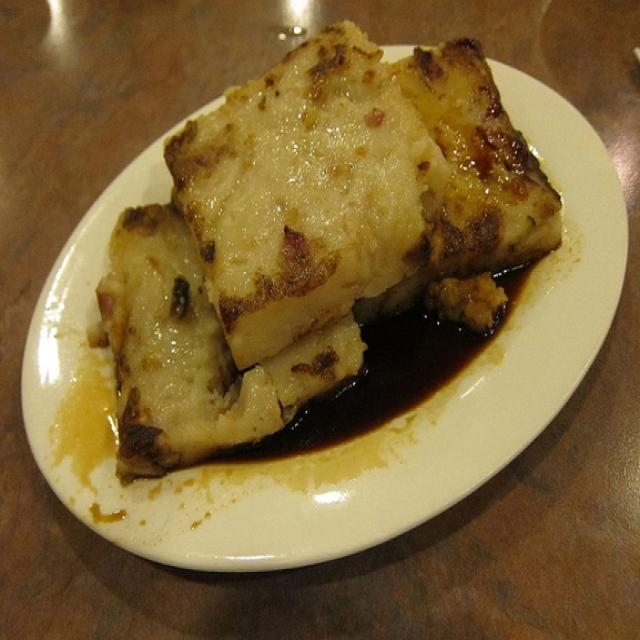蛋糕甜品: (10, 15, 629, 584)
